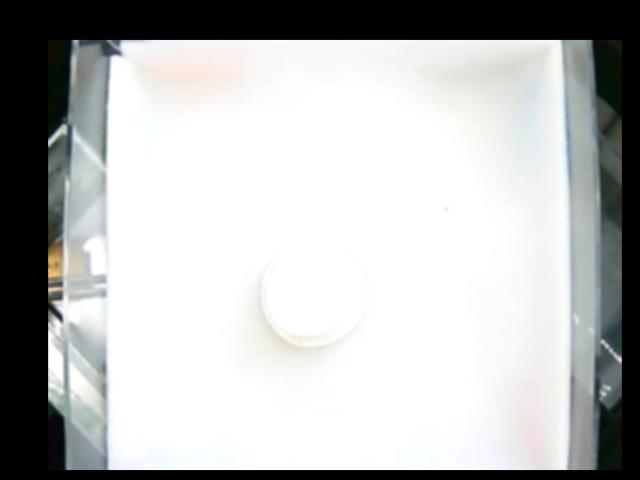Cup: (258, 237, 369, 348)
